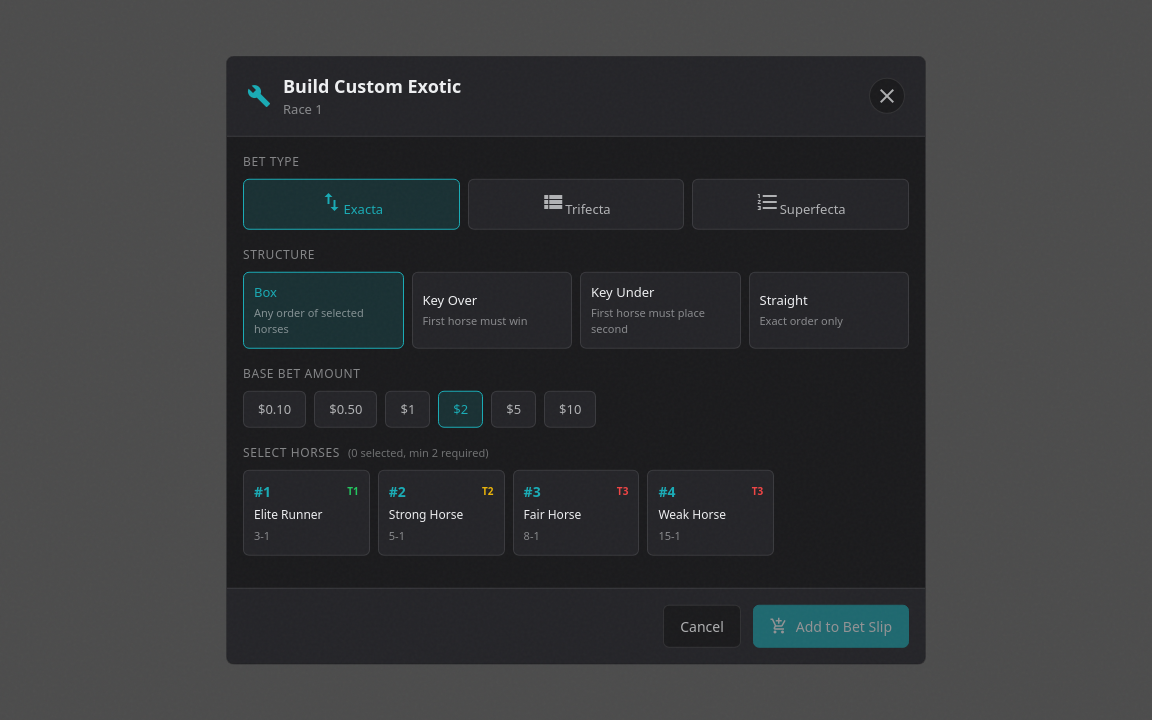
ExoticBuilderModal › Bet Type Selection › switches structure options when bet type changes to trifecta
This screenshot has width=1152, height=720.
What coordinates should you click on to do the following:
click the text "Trifecta"
I would click on:
 (588, 208)
Its box is [565,199,611,217].
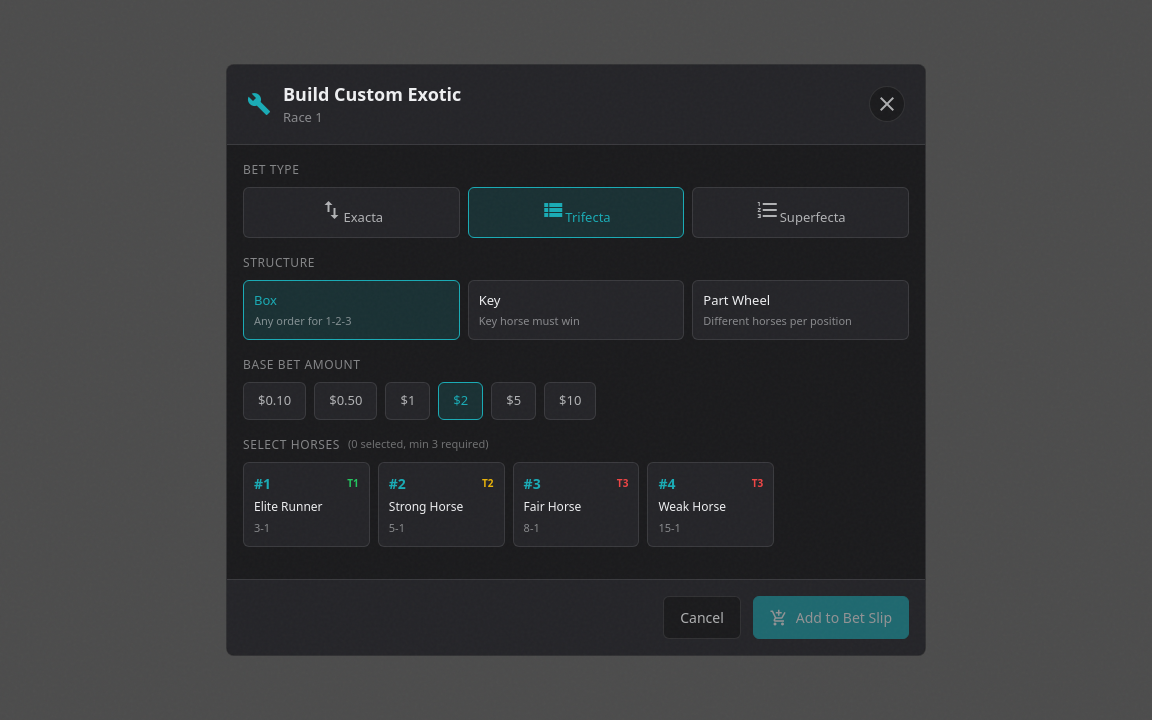
Expected: the text "Box" is shown, [254,291,277,309]
Expected: the text "Part Wheel" is shown, [703,291,770,309]
